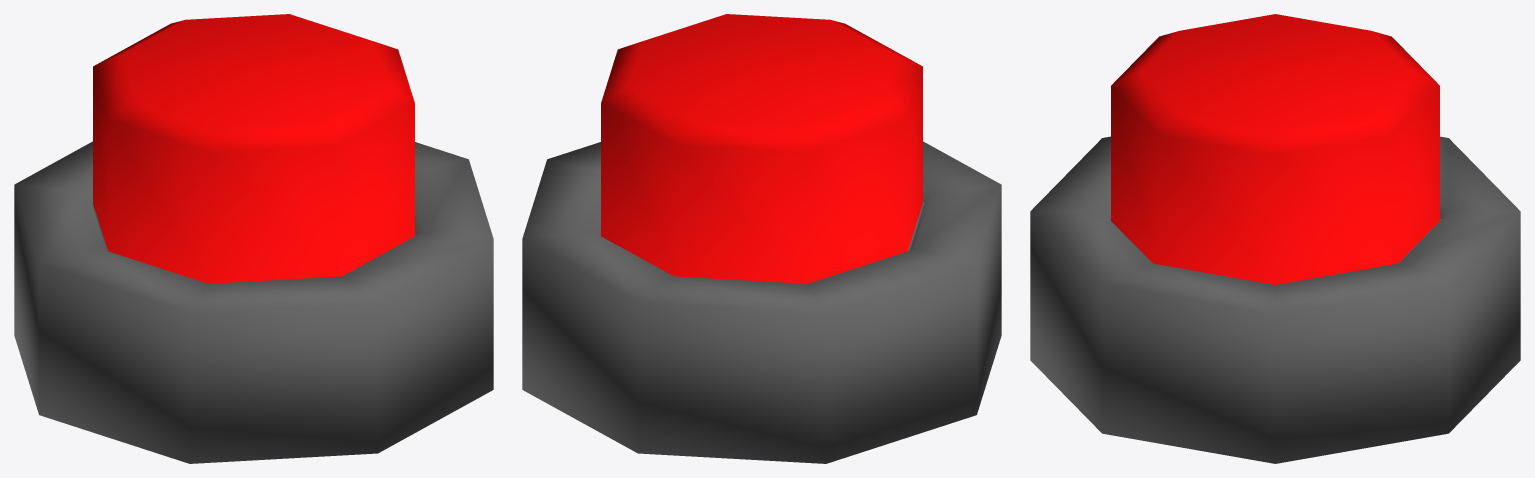
Rendered from test_button_01_mockup.fbx.
The picture shows the model from 3 angles, left to right: view 1: azimuth 30°, elevation 25°; view 2: azimuth 150°, elevation 25°; view 3: azimuth 270°, elevation 25°; orthographic projection.
Visible parts, largest first — view 1: Circle; view 2: Circle; view 3: Circle.
Boxes of the visible parts, x1,y1,x2,y2 form: Circle: [14, 14, 493, 463]; Circle: [522, 14, 1001, 463]; Circle: [1030, 14, 1520, 463].
Size of the model in its own units: 0.2384 by 0.2384 by 0.1552.
